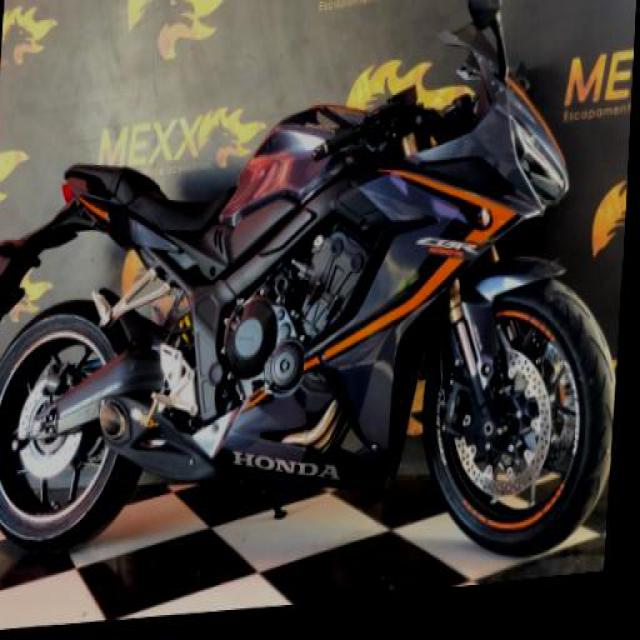CBR650R: (0, 5, 636, 622)
